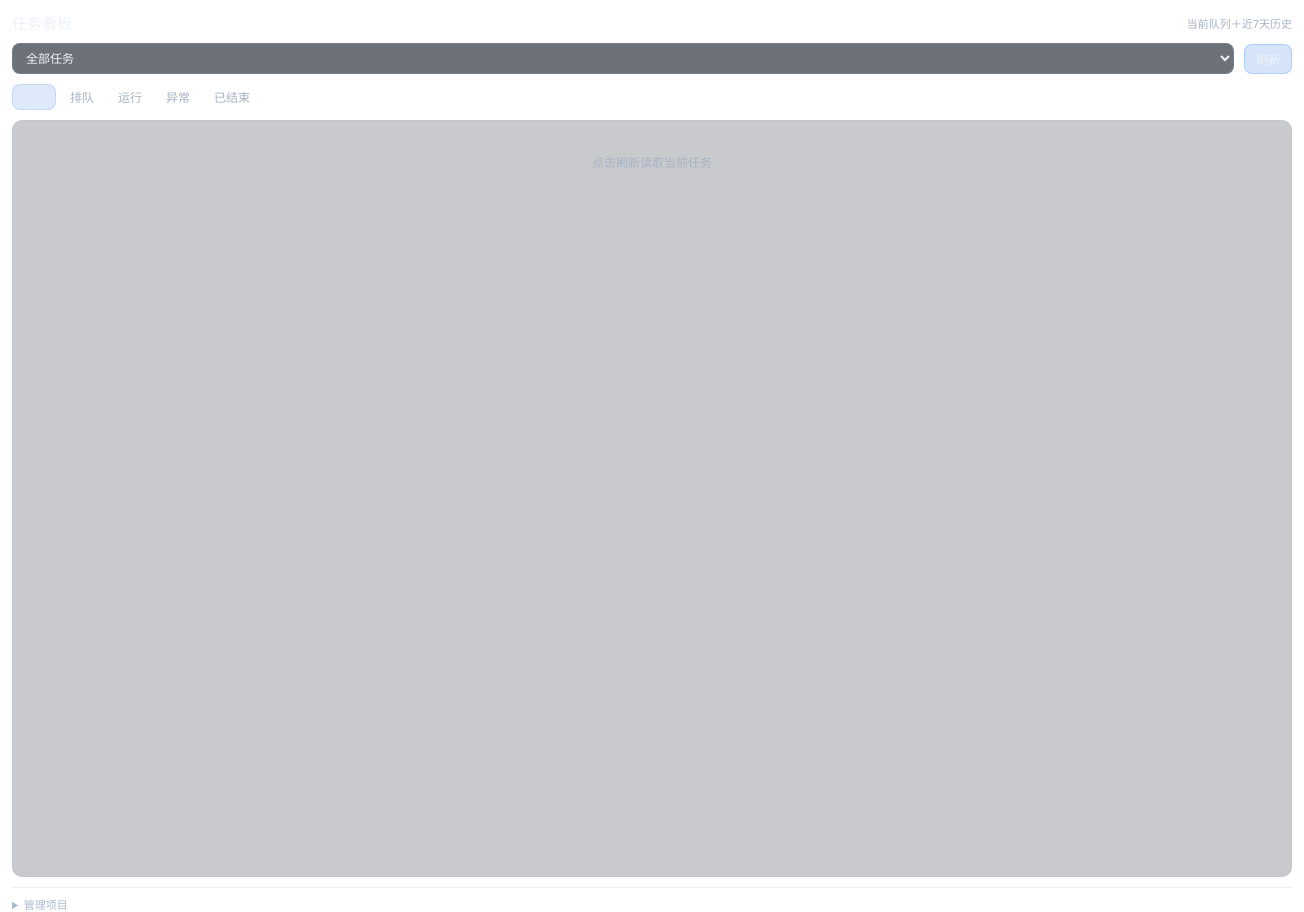
Test case: HPC task board › shows fresh completed history over stale running queue and marks the chosen row fresh
Click the button "刷新" at (1268, 58), box left=1244, top=44, right=1292, bottom=74
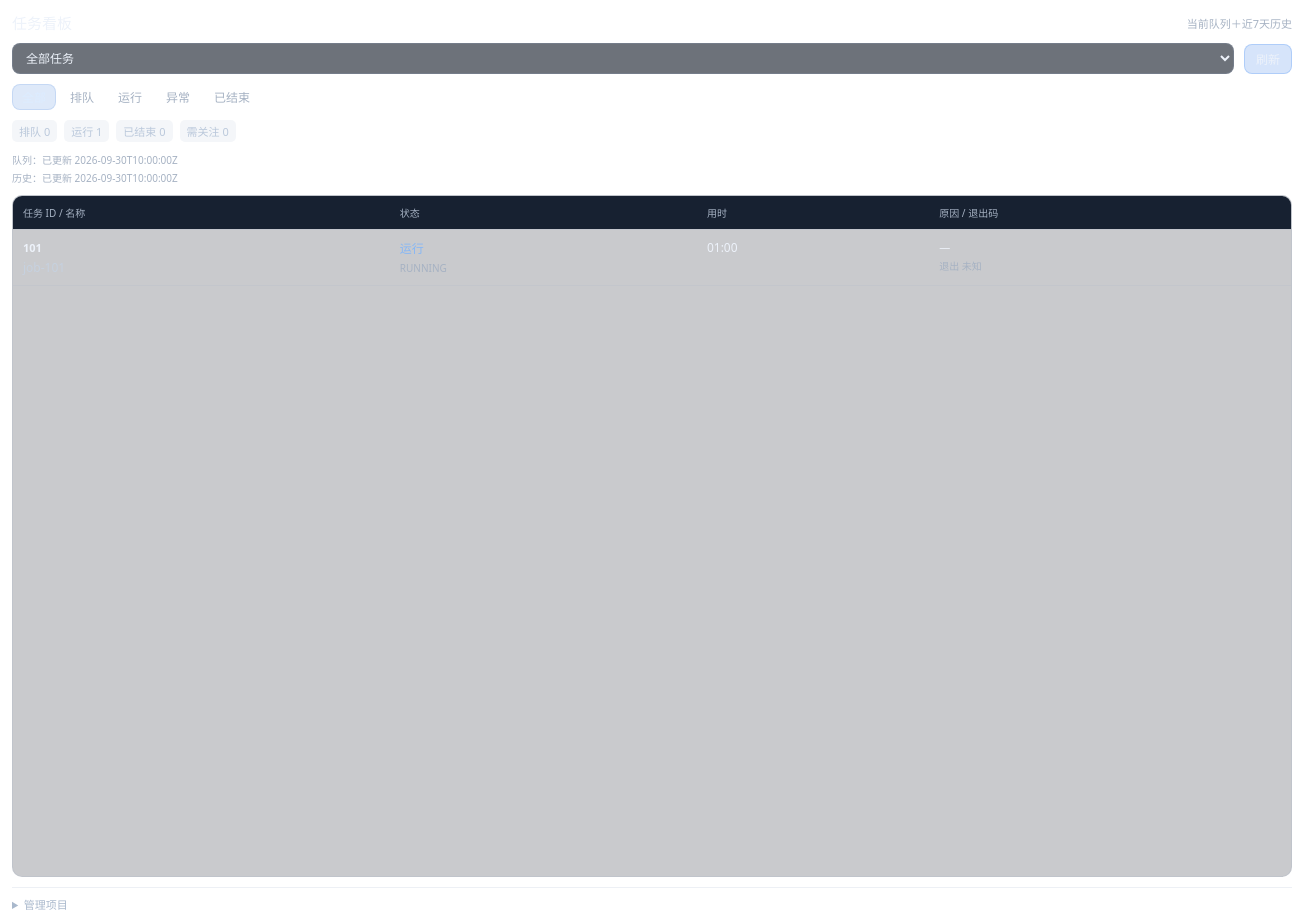
Now the text "RUNNING" is shown, box left=400, top=261, right=447, bottom=275
Click the button "刷新" at (1268, 58), box left=1244, top=44, right=1292, bottom=74
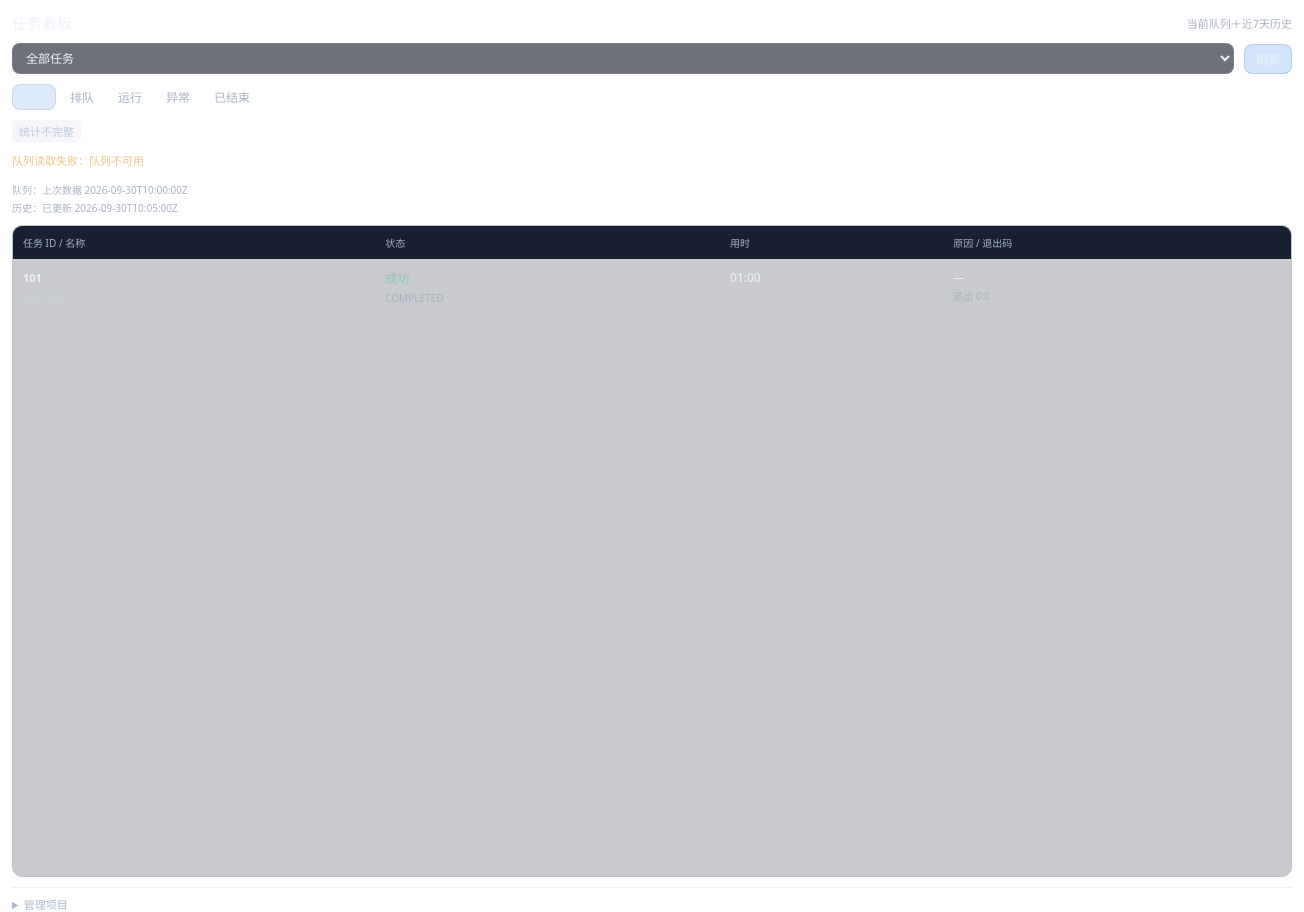
Now the text "队列：上次数据 2026-09-30T10:00:00Z" is shown, box left=12, top=183, right=188, bottom=197
Now the text "成功" is shown, box left=385, top=270, right=409, bottom=287
Now the text "RUNNING" is gone
